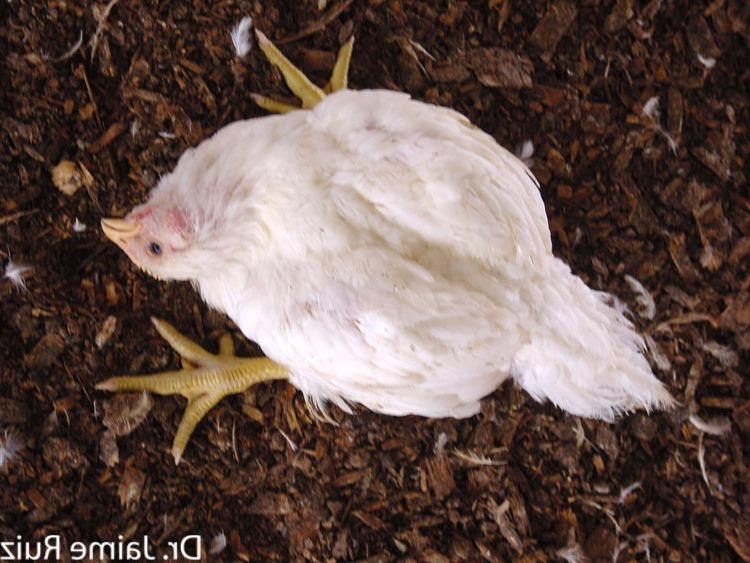AbNormal: (78, 40, 693, 473)
